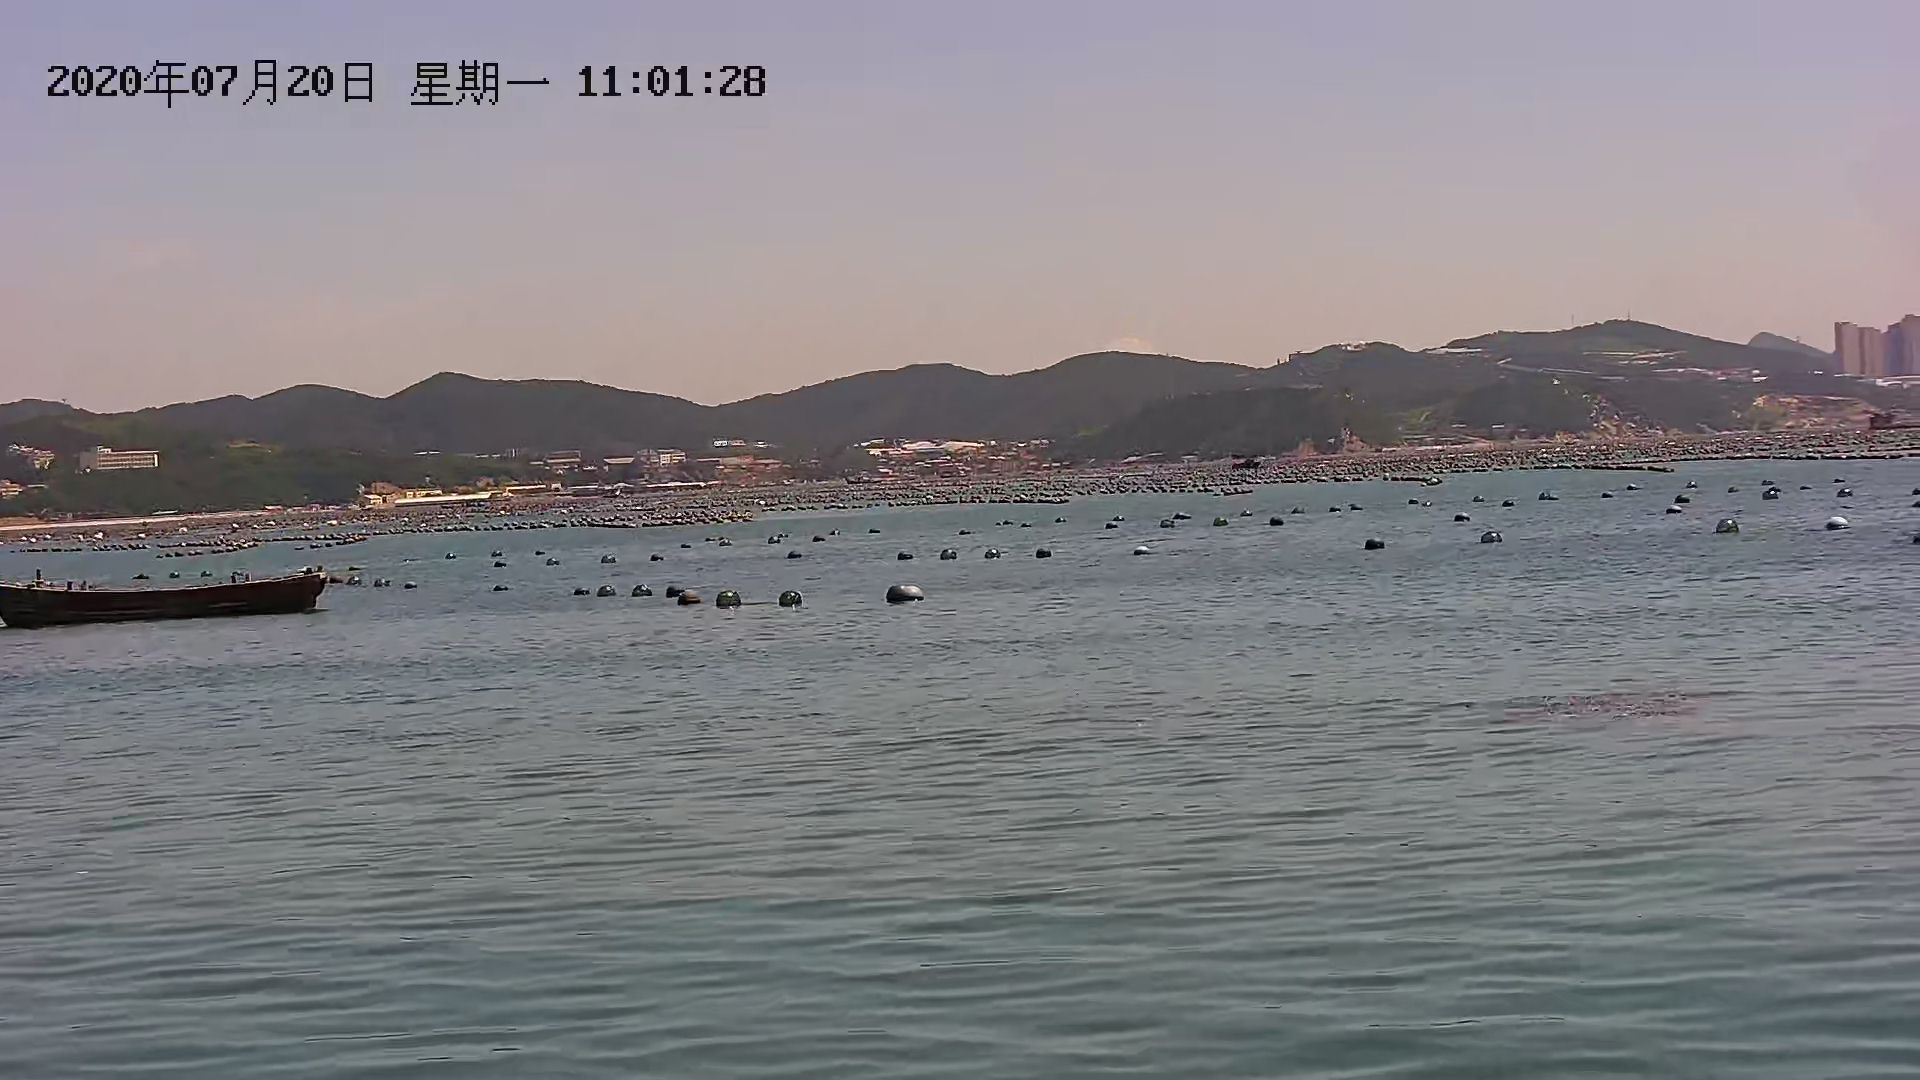ball: (884, 583, 924, 612), (1818, 508, 1853, 539), (658, 579, 687, 611), (673, 587, 707, 613), (1480, 524, 1509, 553), (628, 579, 657, 607), (711, 588, 742, 612), (775, 588, 806, 611), (1361, 531, 1387, 556), (1716, 516, 1739, 535), (1033, 545, 1052, 563), (985, 545, 1001, 564)
boat: (1, 571, 328, 630)
